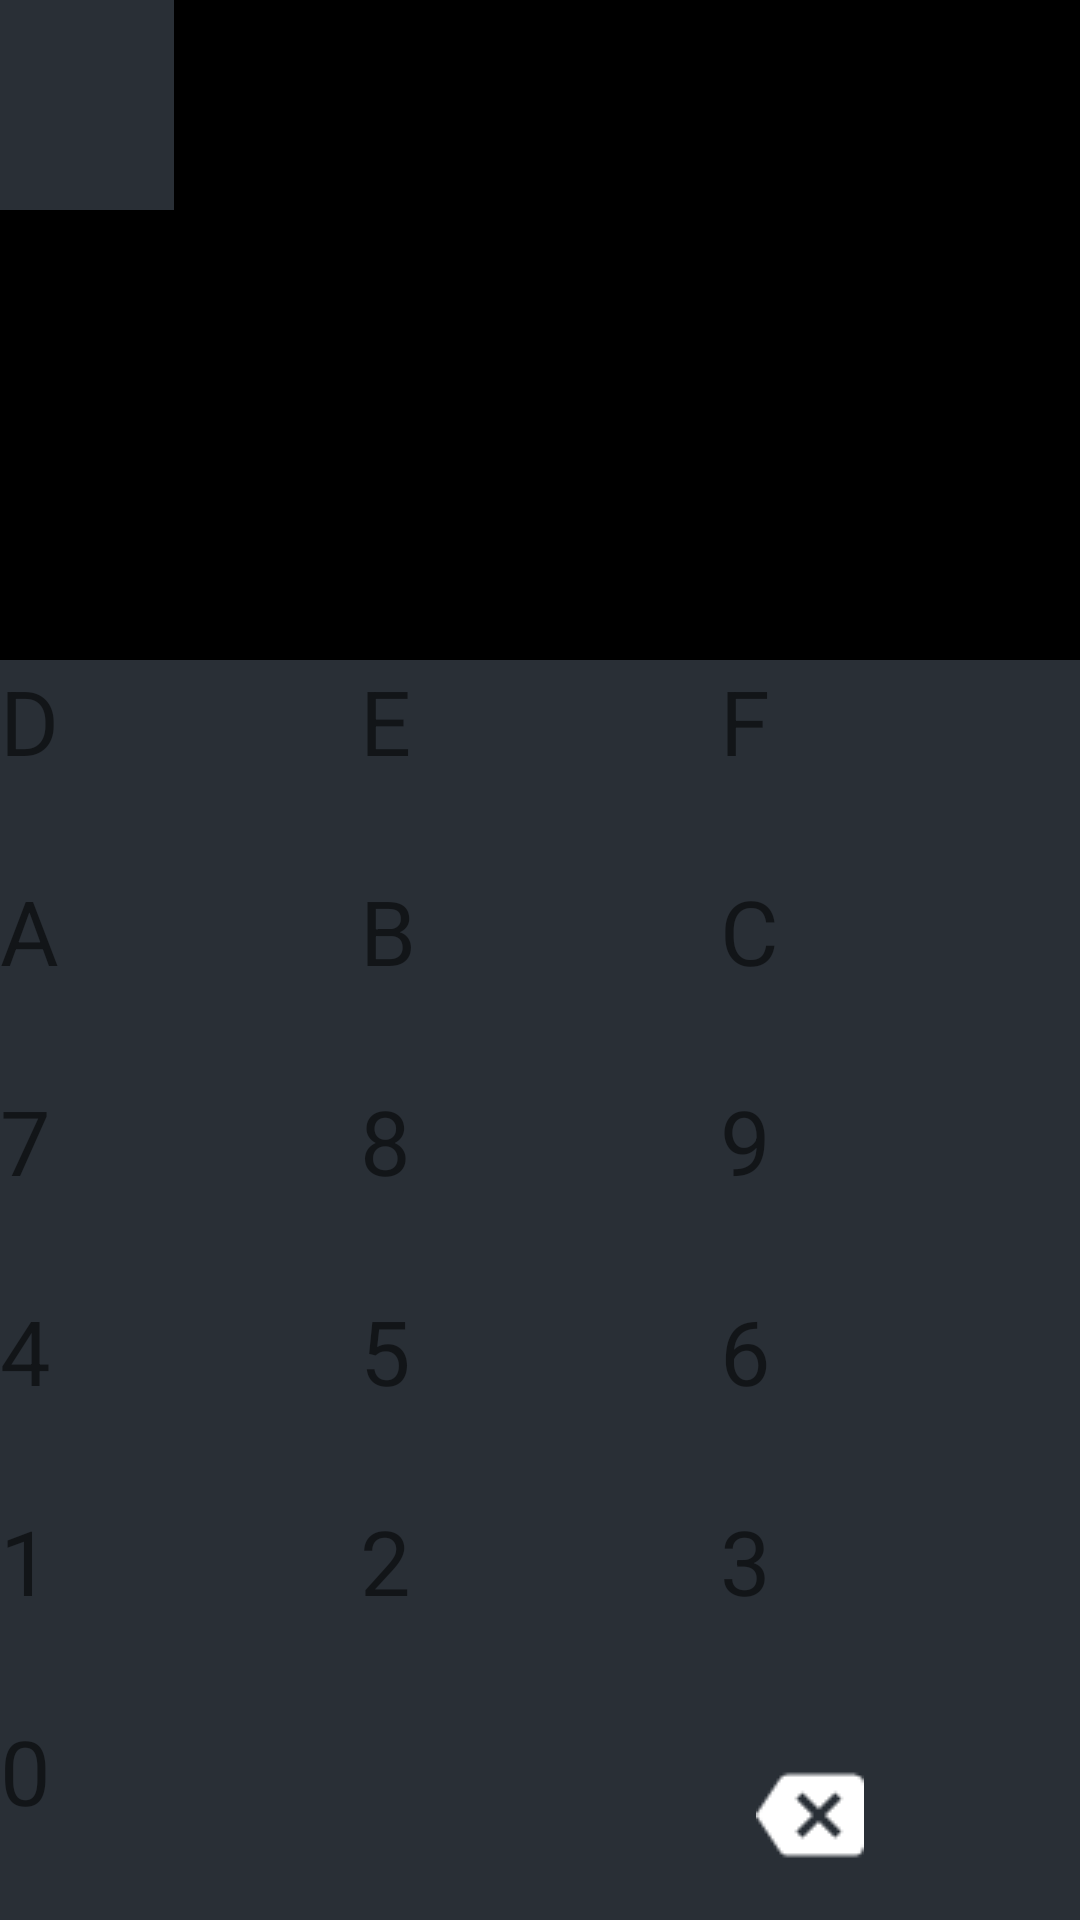

Named icons in this screenshot (1080w x 1920h) and their centers, (x,y):
backspace: (810,1815)
